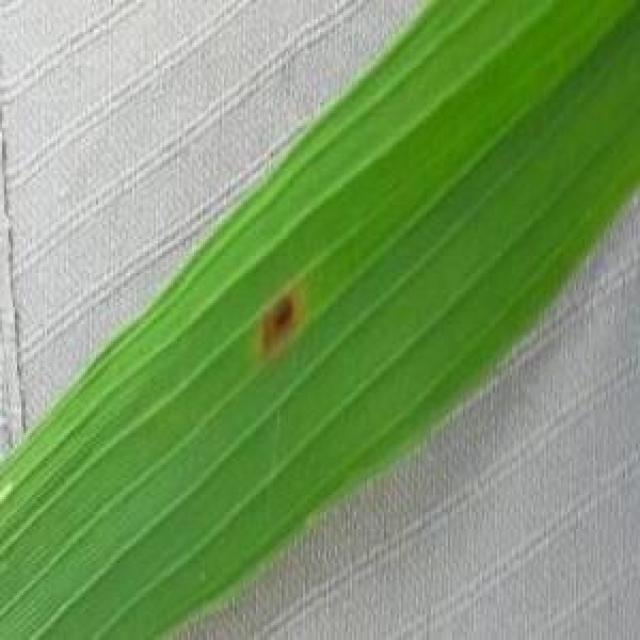brownspots: (239, 292, 318, 352)
